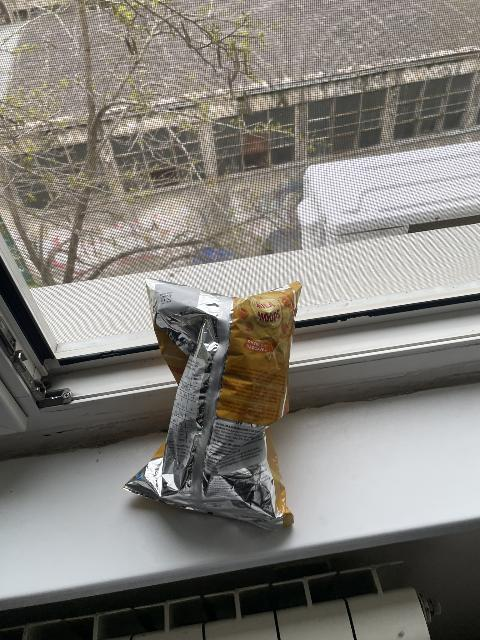Chio Hula Hoops Cheese 70g: (123, 281, 303, 526)
